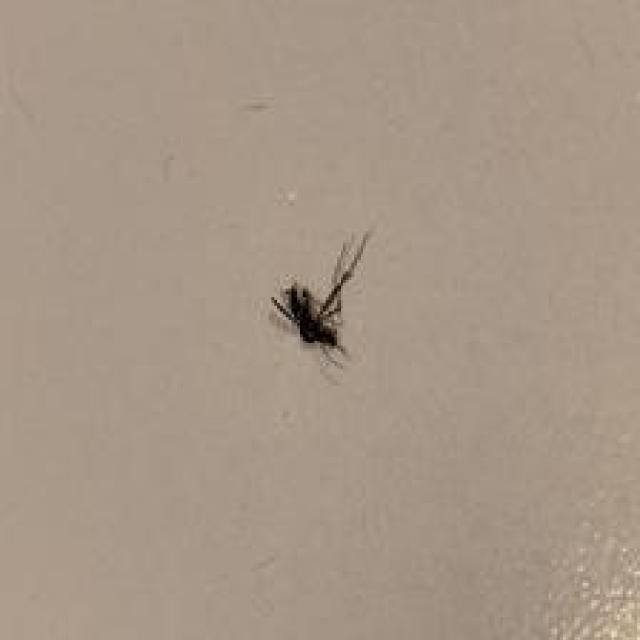Aedes albopictus: (267, 227, 373, 370)
